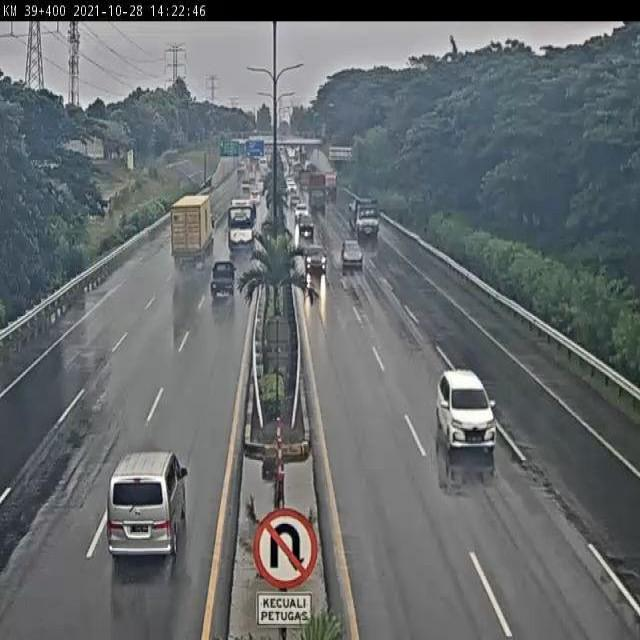bus-l-: (226, 196, 260, 253)
car: (433, 366, 502, 458), (211, 260, 237, 303)
truck-xl-: (170, 190, 216, 266)
